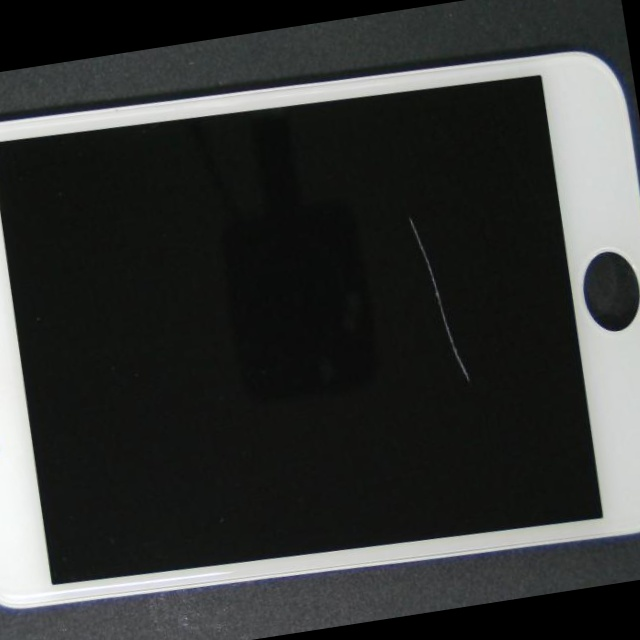scratch: (216, 268, 640, 518)
